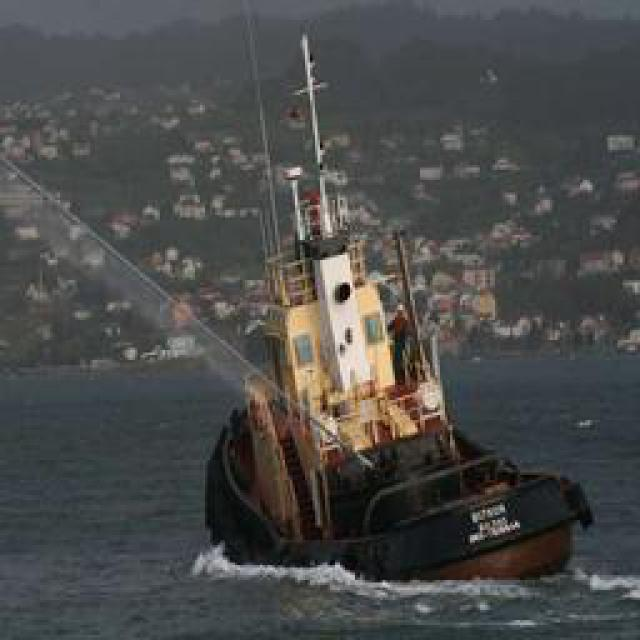Ship: (200, 197, 590, 590)
